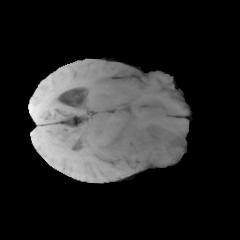glioma: (96, 106, 185, 170)
